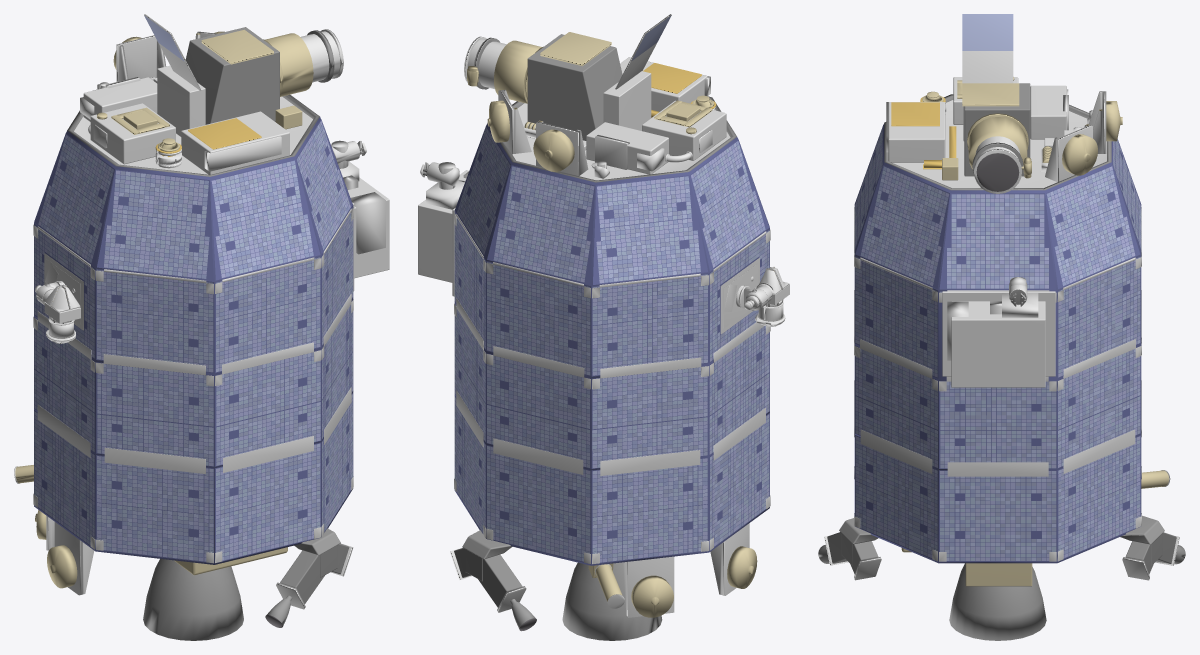
The model's file is Lunar Atmosphere and Dust Environment Explorer.glb.
3 views of the same model, side by side, from view 1: azimuth 30°, elevation 25°; view 2: azimuth 150°, elevation 25°; view 3: azimuth 270°, elevation 25° (orthographic). The views are drawn at different scales.
Parts seen in each view (by area): view 1: Fake; view 2: Fake; view 3: Fake.
Boxes of the visible parts, x1,y1,x2,y2 form: Fake: (14, 14, 389, 640); Fake: (418, 14, 789, 640); Fake: (818, 14, 1185, 640).
Bounding box in the file's own units: 37.18 × 63.9 × 36.22.
